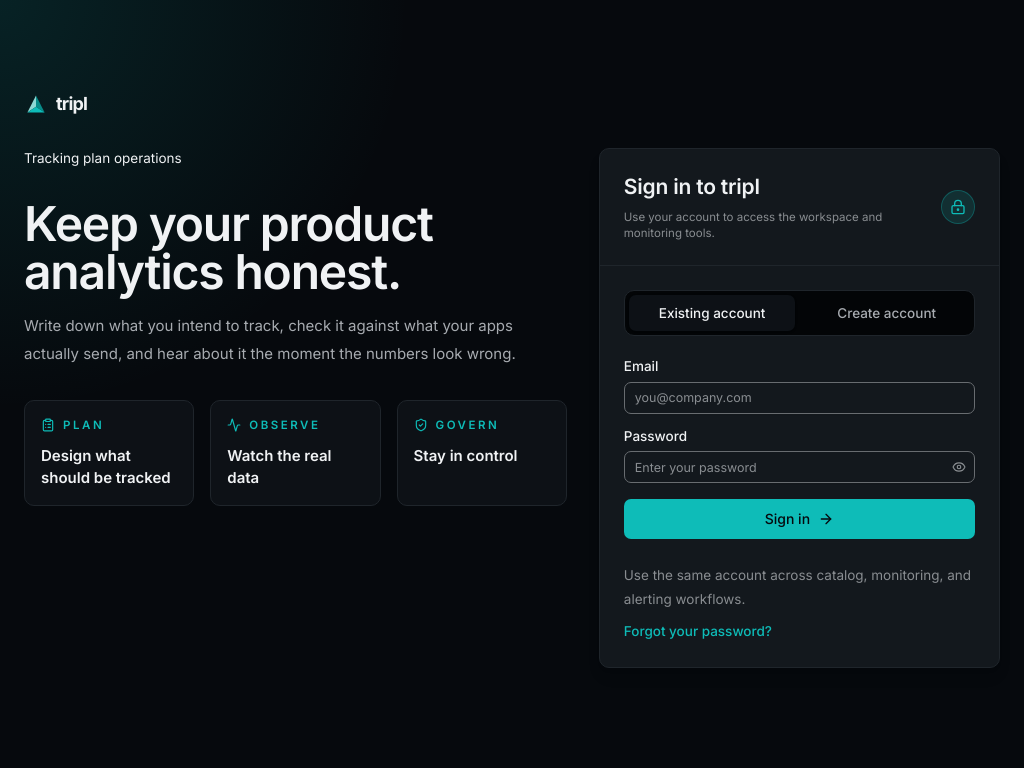
Test: AuthPage › updates the card title and subtitle to registration copy when the register tab is active
The register tab is the only "Create account" control while login mode is active.
Step 1. Click the button "Create account" → (887,313), box [803,295,970,331]
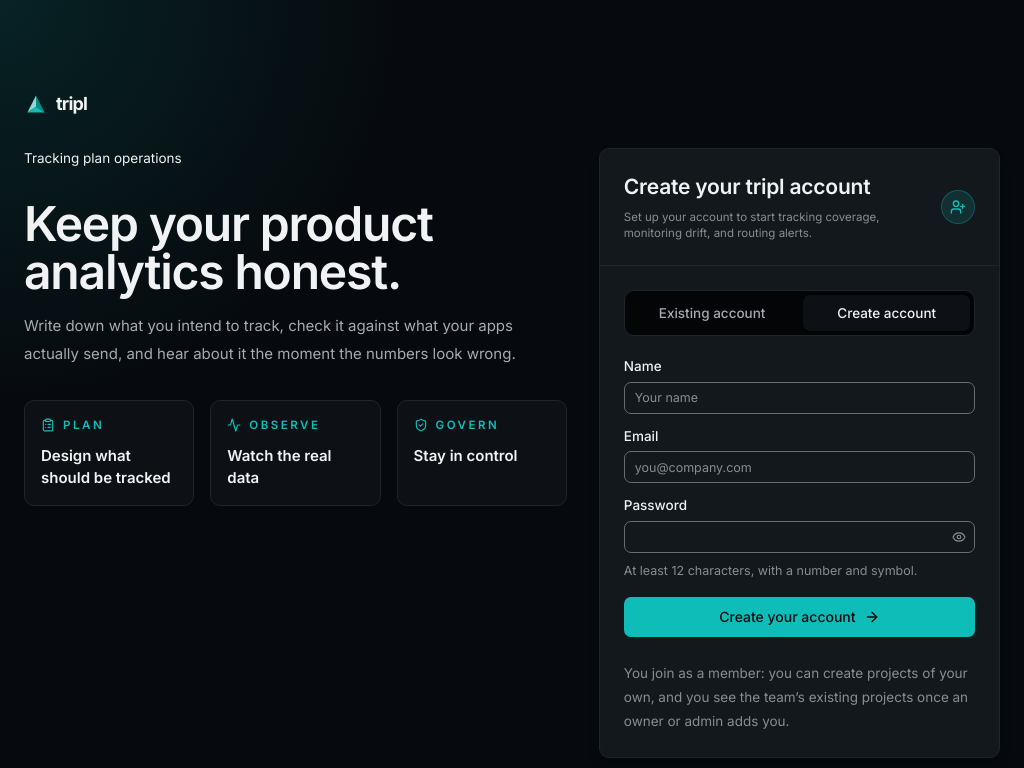
Check: the heading "Create your tripl account" is shown, box [624,174,870,199]
Check: the text "Set up your account to start tracking coverage, monitoring drift, and routing alerts." is shown, box [624,210,880,240]
Check: the heading "Sign in to tripl" is gone
